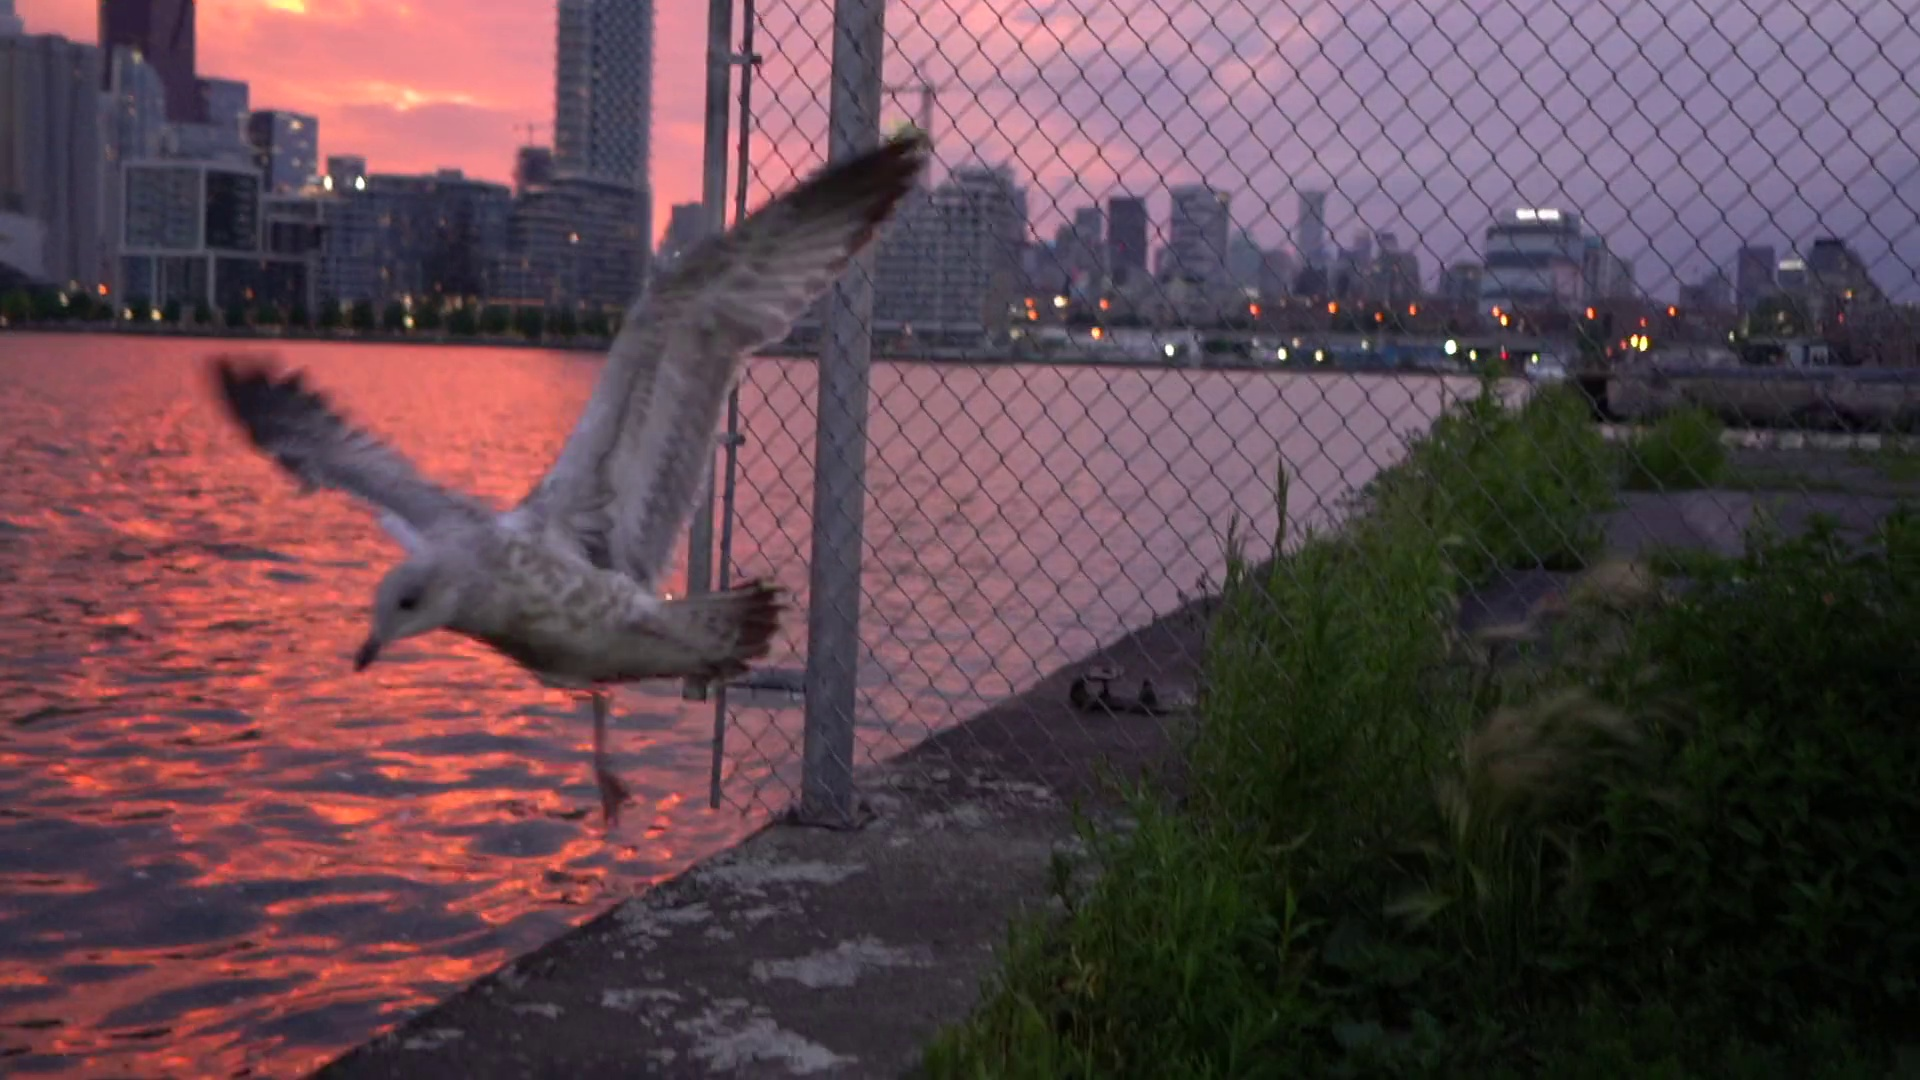bird: (223, 127, 923, 822)
